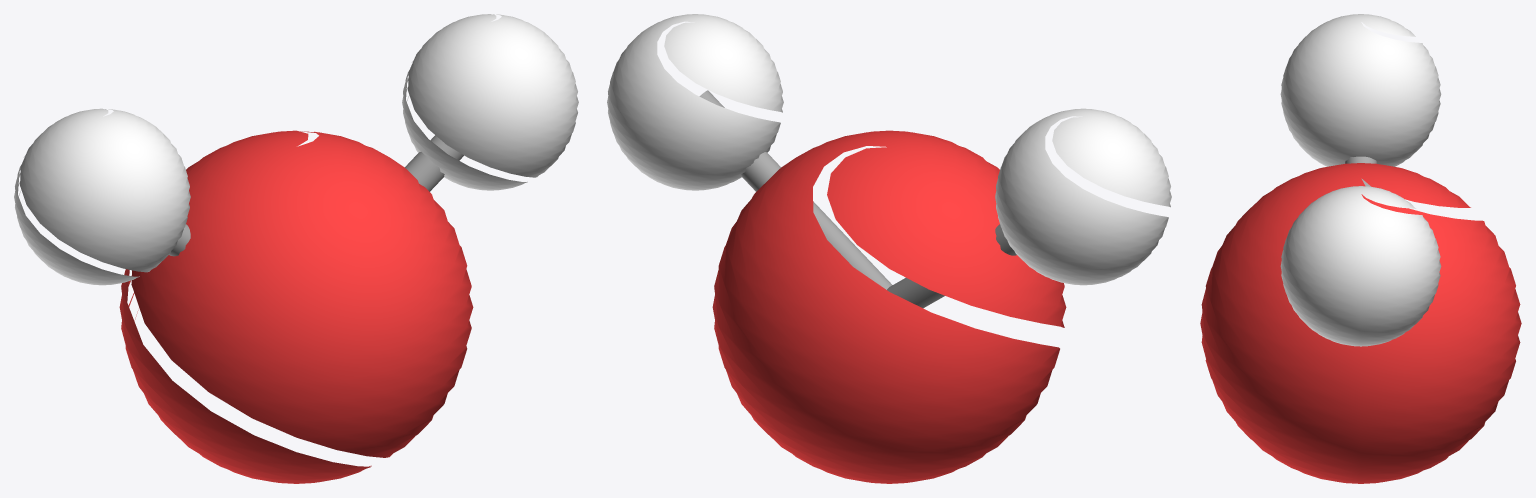
3 views of the same model, side by side, from view 1: azimuth 30°, elevation 25°; view 2: azimuth 150°, elevation 25°; view 3: azimuth 270°, elevation 25° (orthographic). The views are drawn at different scales.
Size of the model in its own units: 2.12 by 1.48 by 1.2.
